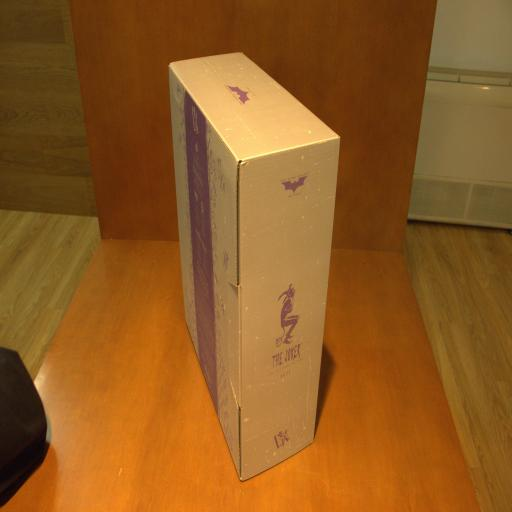Joker: (168, 50, 346, 481)
